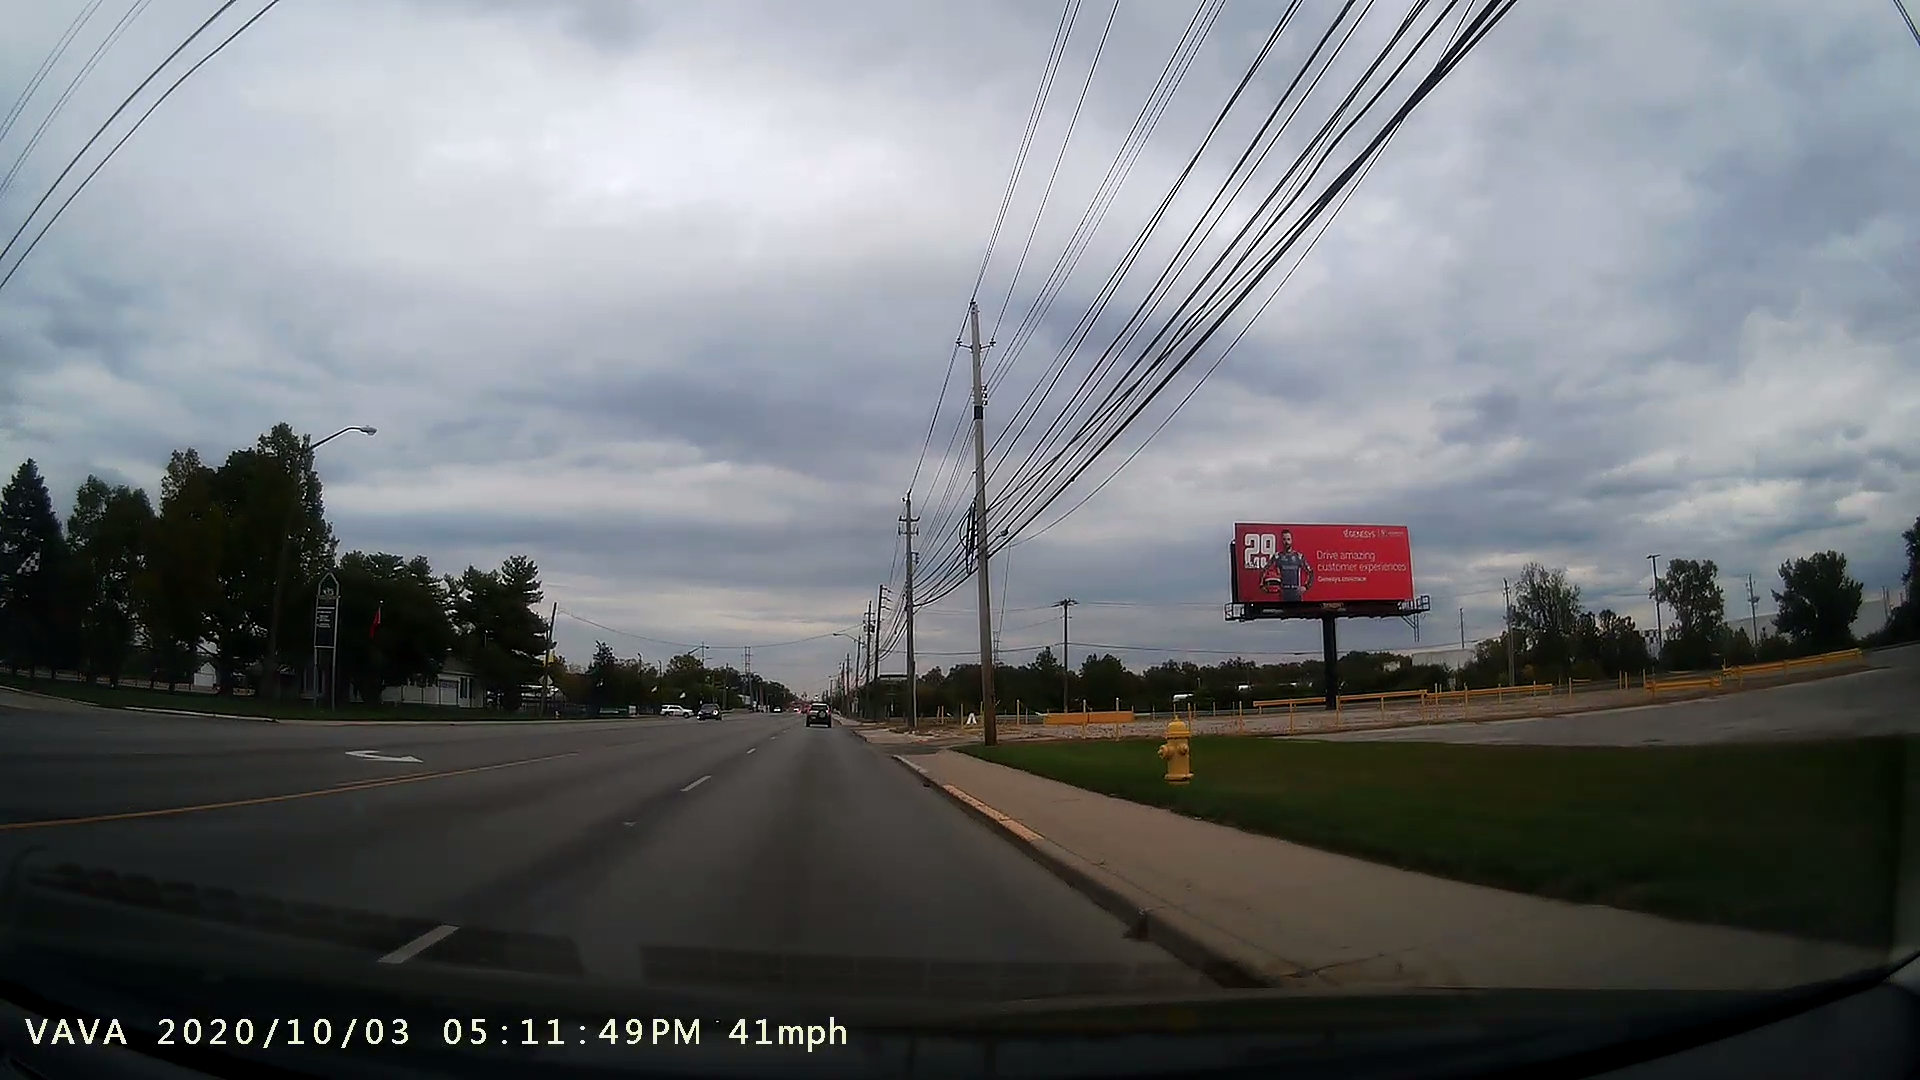fire_hydrant: (1139, 704, 1207, 799)
